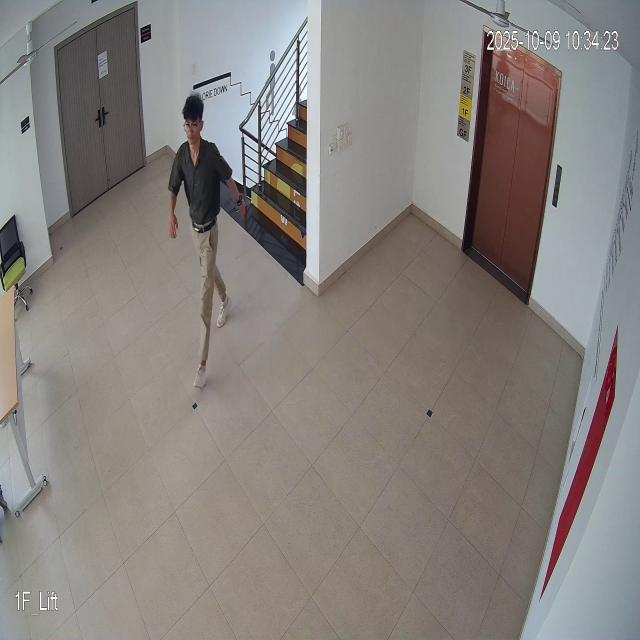face: (181, 90, 206, 149)
